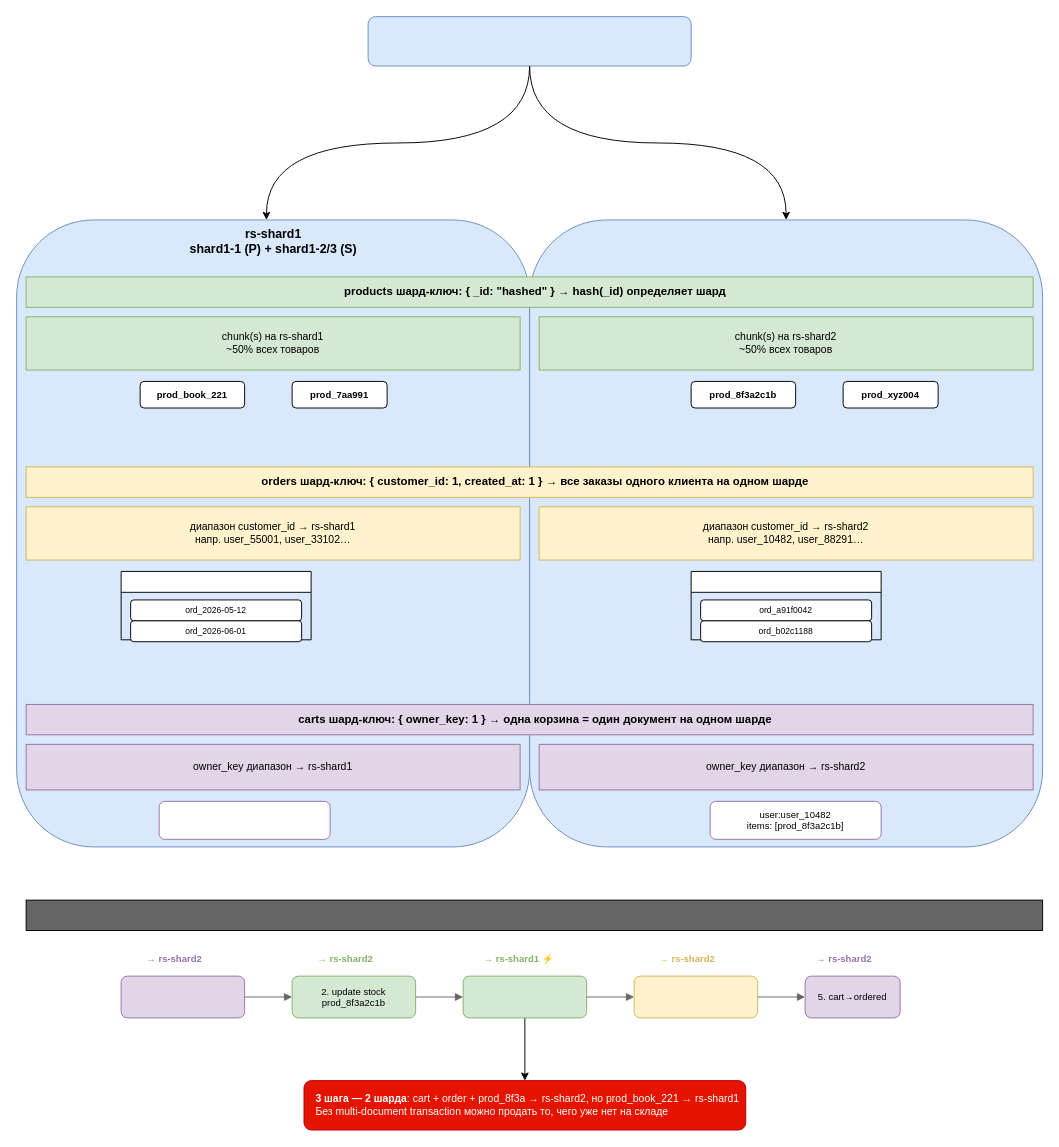
The diagram is 1059 pixels wide and 1147 high, and some of its shapes have lost their labels. Here are the shapes that lost their labels. From the top down, the box of each, then its label:
(367, 16, 691, 66): mongos-router :27020 смотрит шард-ключ → выбирает chunk → шлёт на Primary шарда
(529, 219, 1043, 847): rs-shard2 shard2-1 (P) + shard2-2/3 (S)
(120, 570, 311, 640): user_55001
(690, 570, 881, 640): user_10482
(158, 800, 330, 839): session:sess_9f2caa01 items: [prod_book_221]
(25, 899, 1043, 931): Пример: оформление заказа user_10482 (prod_8f3a2c1b + prod_book_221 в корзине)
(120, 975, 245, 1018): 1. read cart owner_key=user:10482
(462, 975, 587, 1018): 3. update stock prod_book_221
(633, 975, 758, 1018): 4. insert order customer_id=10482
